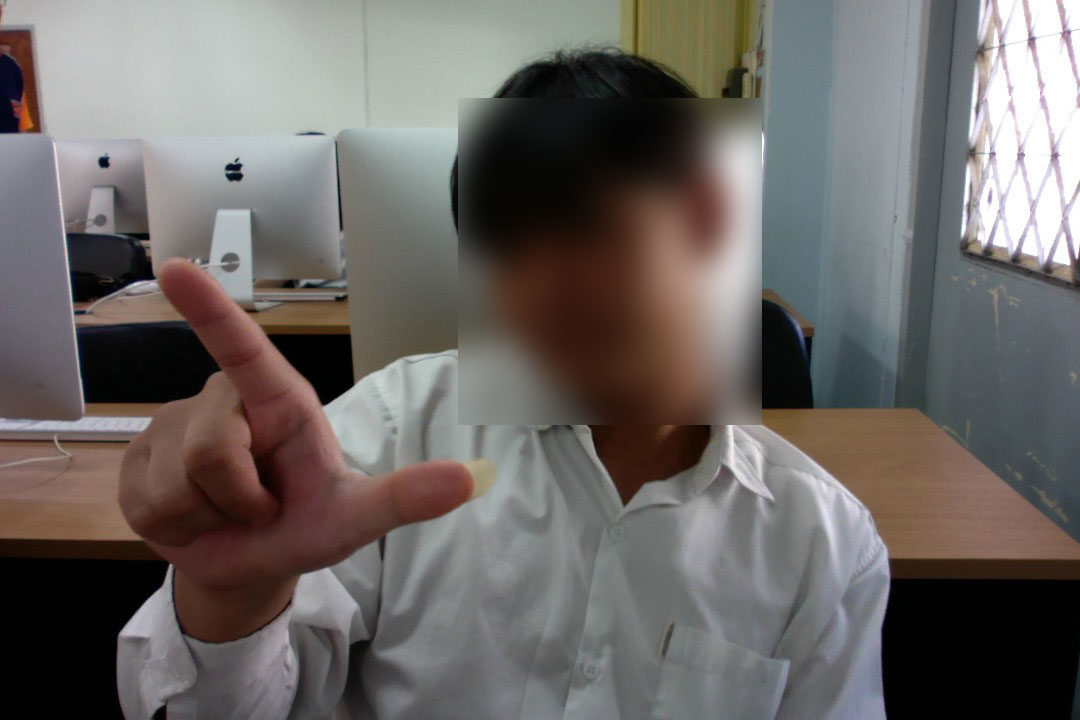lor: (110, 253, 499, 633)
